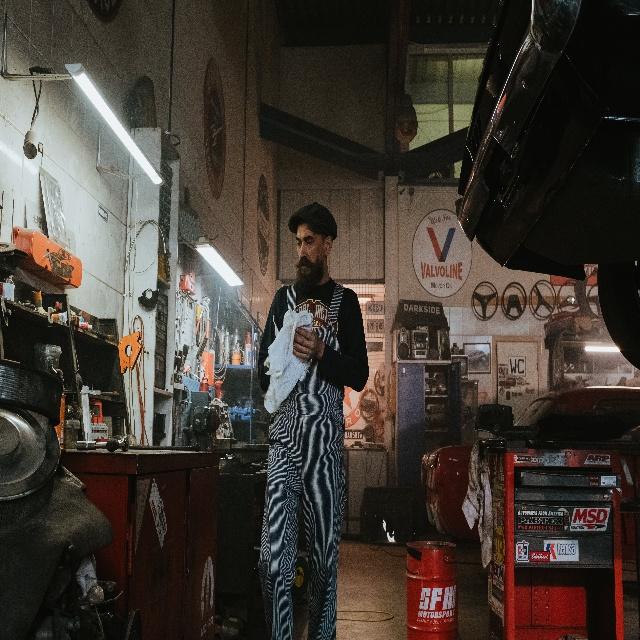Sin_guantes: (292, 325, 320, 362)
